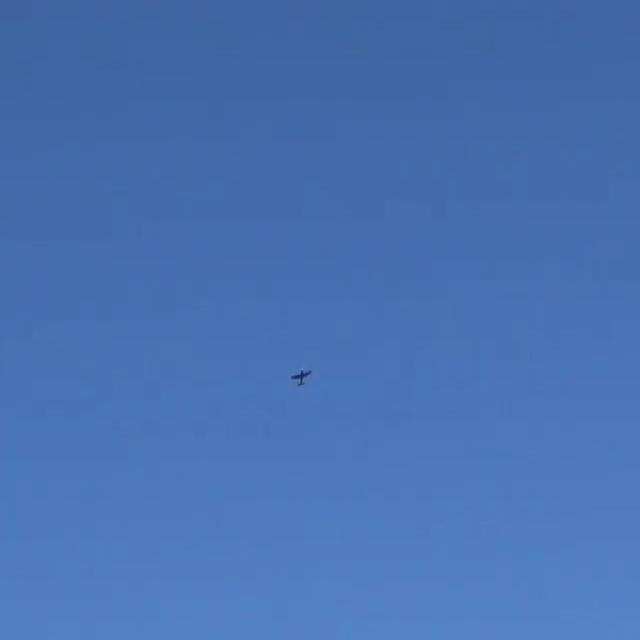AirPlane: (277, 357, 322, 392)
